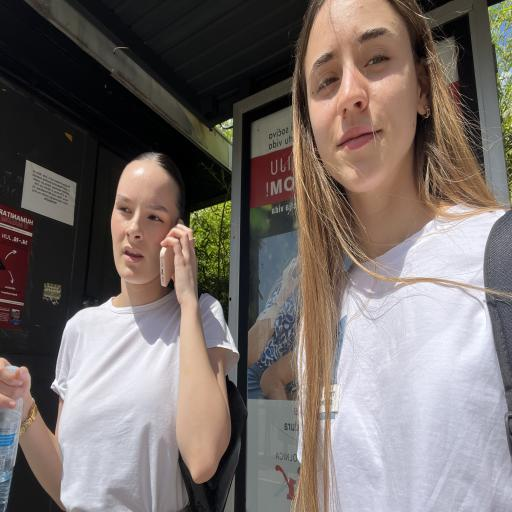marija: (88, 141, 213, 323)
masa: (278, 2, 482, 253)
